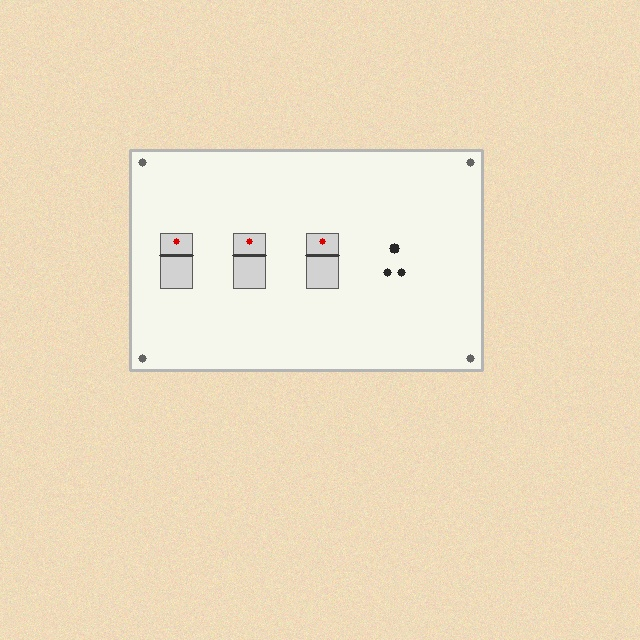switchboard: (130, 150, 482, 370)
